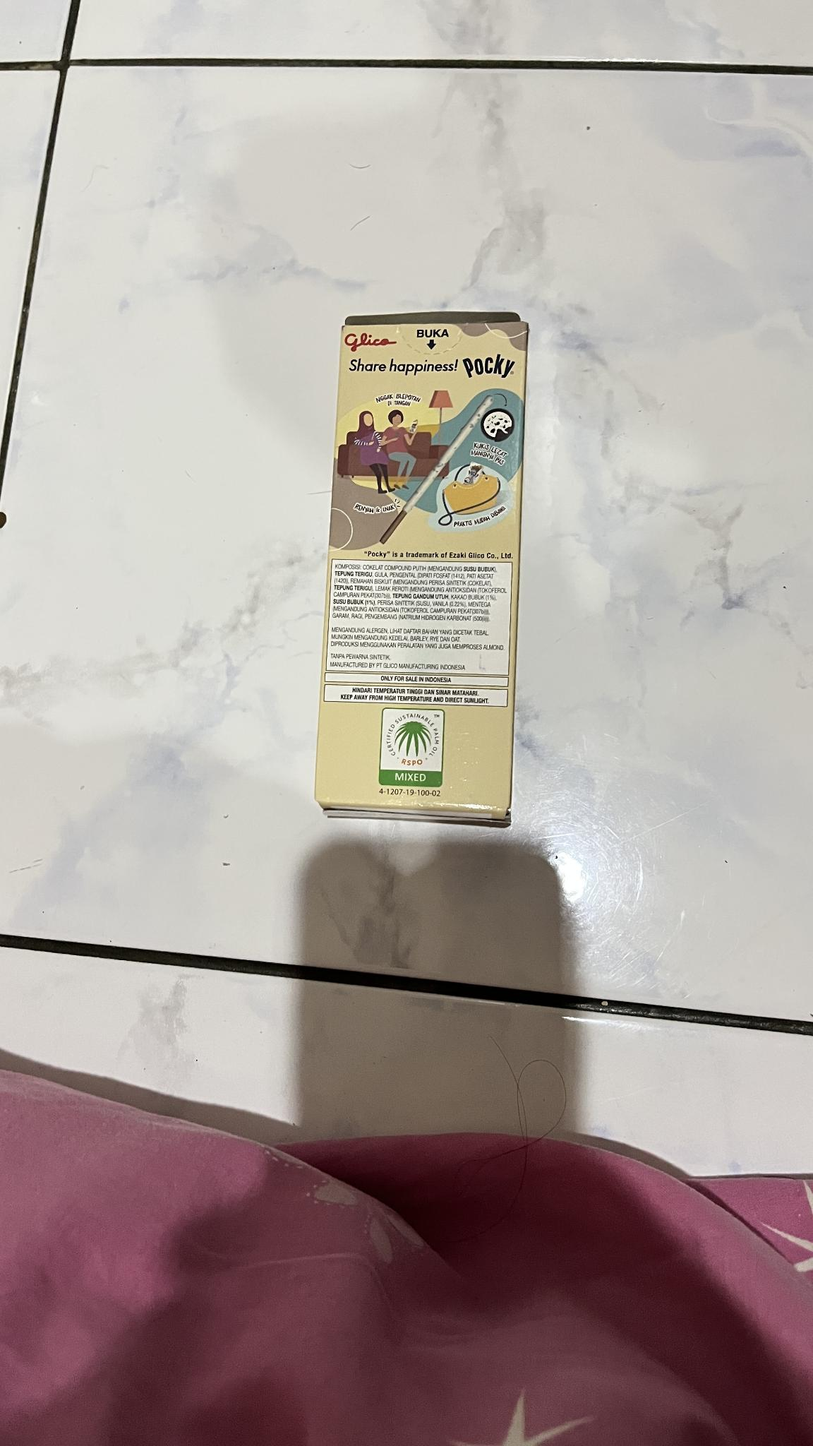Kertas: (330, 316, 531, 828)
